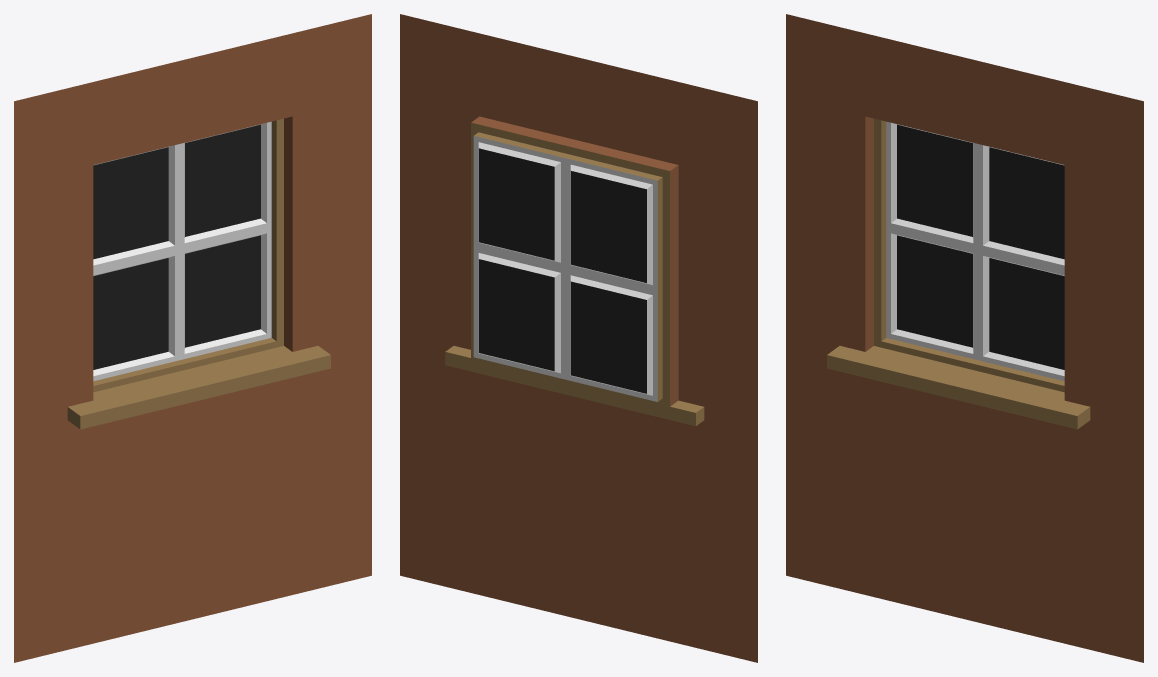
Rendered from 2x3WindowC.fbx.
3 renders of one model, left to right at view 1: azimuth 30°, elevation 25°; view 2: azimuth 150°, elevation 25°; view 3: azimuth 330°, elevation 25°, orthographic.
Parts seen in each view (by area): view 1: 2x3WindowC; view 2: 2x3WindowC; view 3: 2x3WindowC.
Part boxes in pixels (x1,y1,x2,y2): 2x3WindowC: (14, 14, 371, 662); 2x3WindowC: (400, 14, 757, 662); 2x3WindowC: (786, 14, 1143, 662).
Bounding box in the file's own units: 200 × 300 × 27.98.
